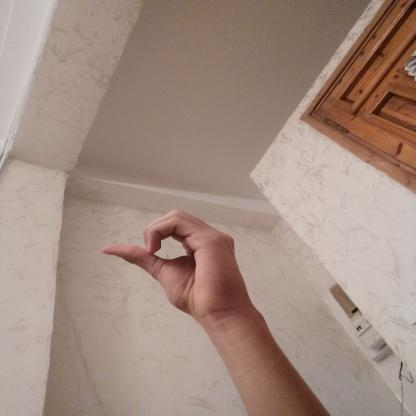WAW: (86, 203, 264, 326)
